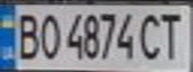4: (115, 8, 139, 61), (60, 9, 84, 60)
7: (97, 9, 118, 60)
8: (81, 9, 103, 61)
B: (9, 9, 42, 61)
C: (136, 9, 166, 61)
O: (36, 9, 60, 61)
T: (157, 8, 190, 61)
